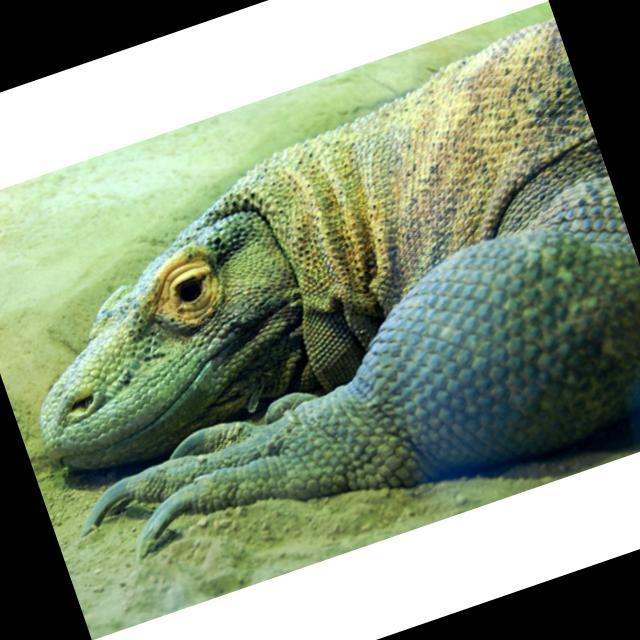KomodoDragon: (0, 14, 640, 602)
